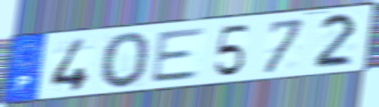2: (313, 11, 361, 71)
4: (48, 35, 92, 93)
5: (212, 22, 251, 78)
7: (262, 16, 307, 75)
E: (148, 25, 209, 85)
O: (100, 30, 153, 91)
